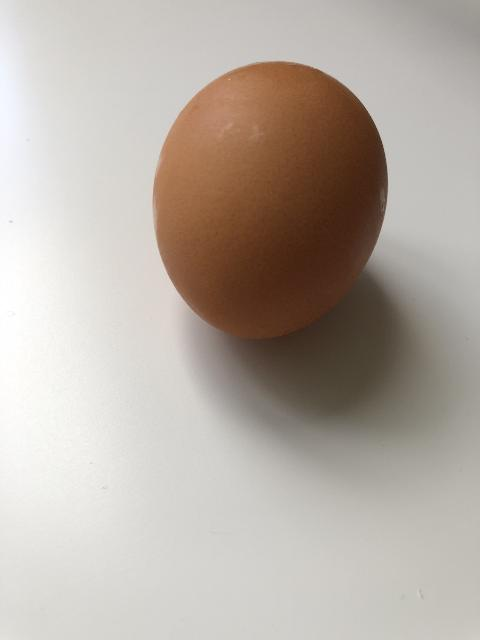Sano: (151, 59, 389, 340)
